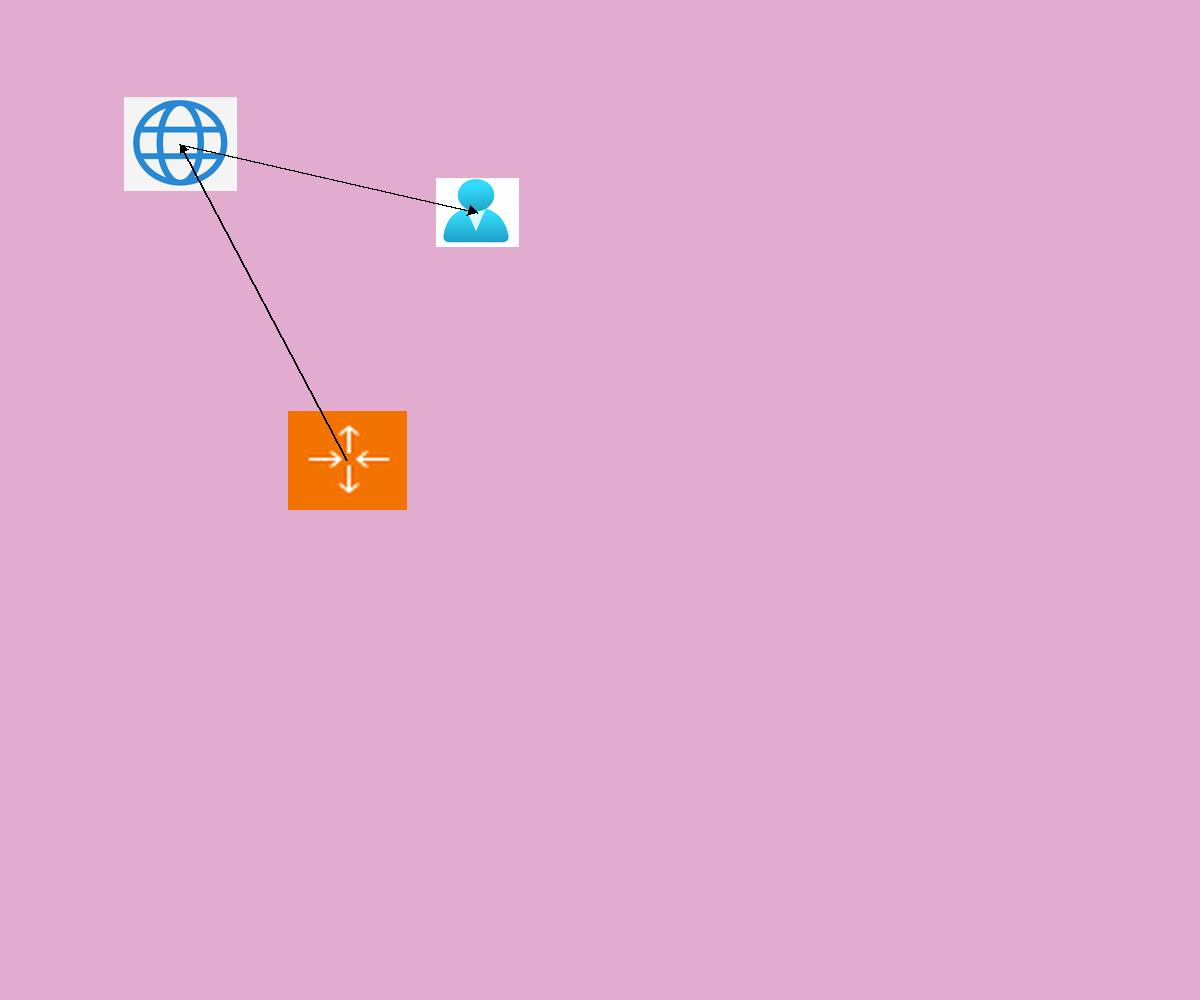AWS-Scaling-group: (288, 411, 407, 510)
Azure_http: (124, 97, 237, 191)
Azure_users: (436, 178, 519, 247)
